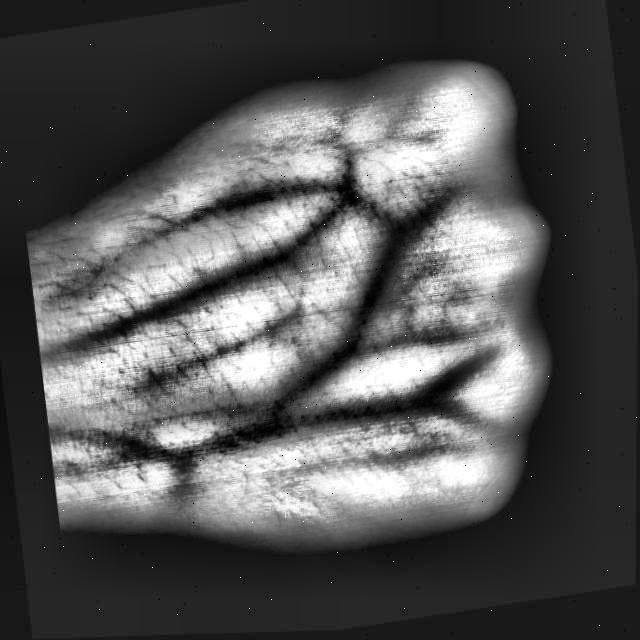Vein: (87, 170, 270, 288), (79, 253, 277, 352), (200, 390, 408, 458)
